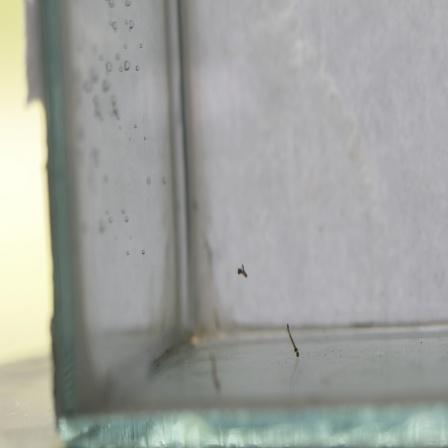Jentik-Nyamuk: (282, 320, 305, 361), (233, 260, 253, 283)
